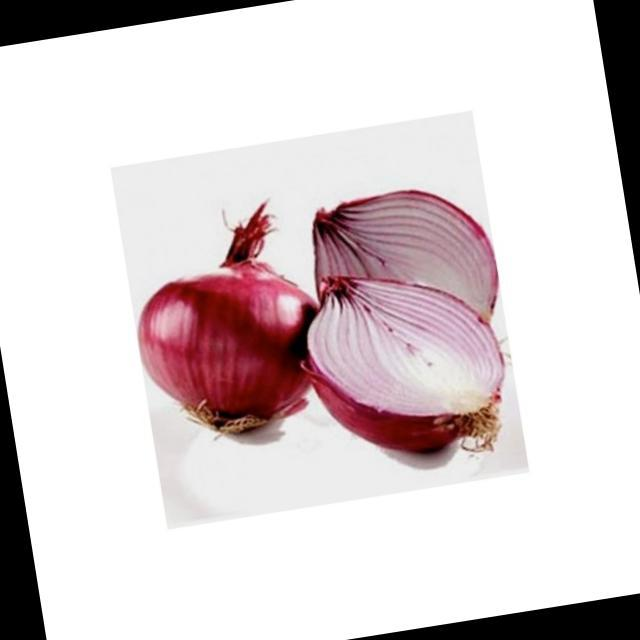ONIONS: (302, 263, 516, 470), (304, 165, 508, 373), (125, 240, 320, 450)
